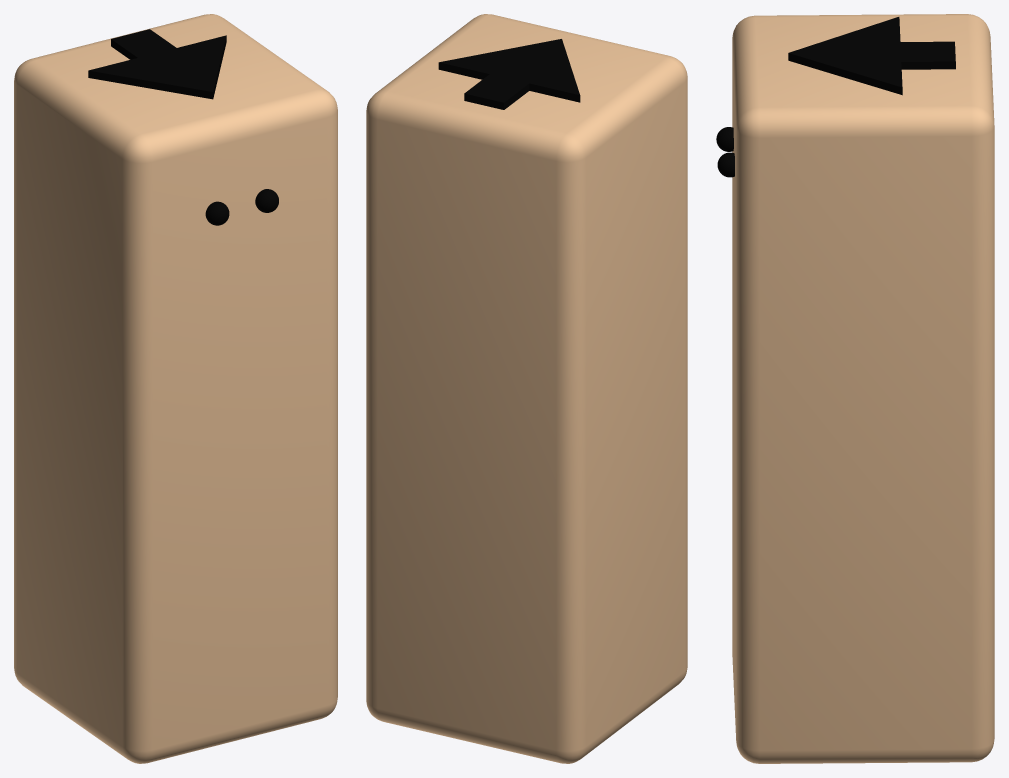
The model's file is 9newb.obj.
3 renders of one model, left to right at view 1: azimuth 30°, elevation 25°; view 2: azimuth 150°, elevation 25°; view 3: azimuth 270°, elevation 25°, orthographic. The views are drawn at different scales.
Parts seen in each view (by area): view 1: Cube.018_Cube.001, Cube.018_Cube.002_Cube.018_Cube.003; view 2: Cube.018_Cube.001, Cube.018_Cube.002_Cube.018_Cube.003; view 3: Cube.018_Cube.001, Cube.018_Cube.002_Cube.018_Cube.003.
Boxes of the visible parts, box(x1,y1,x2,y2) form: Cube.018_Cube.001: box(14, 14, 337, 763); Cube.018_Cube.002_Cube.018_Cube.003: box(88, 29, 278, 225); Cube.018_Cube.001: box(366, 14, 687, 763); Cube.018_Cube.002_Cube.018_Cube.003: box(438, 39, 580, 109); Cube.018_Cube.001: box(732, 14, 994, 763); Cube.018_Cube.002_Cube.018_Cube.003: box(716, 17, 955, 177).
Size of the model in its own units: 0.1813 by 0.5061 by 0.1922.
